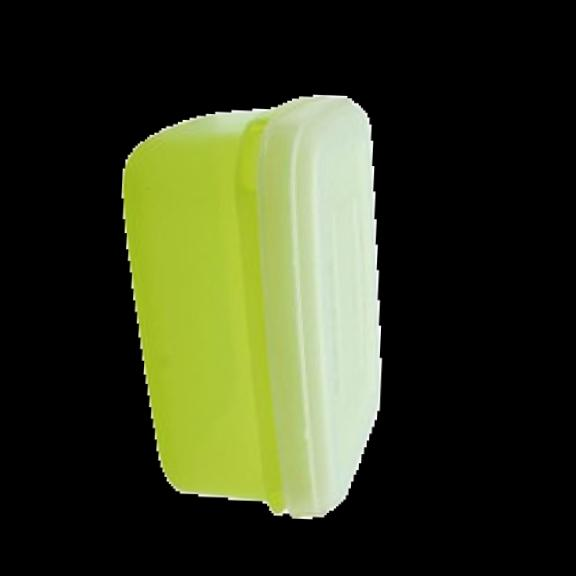Plastik: (104, 83, 408, 547)
